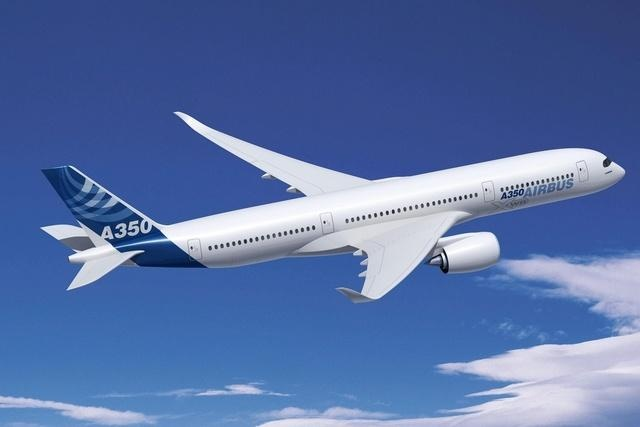airplane: (38, 111, 631, 311)
